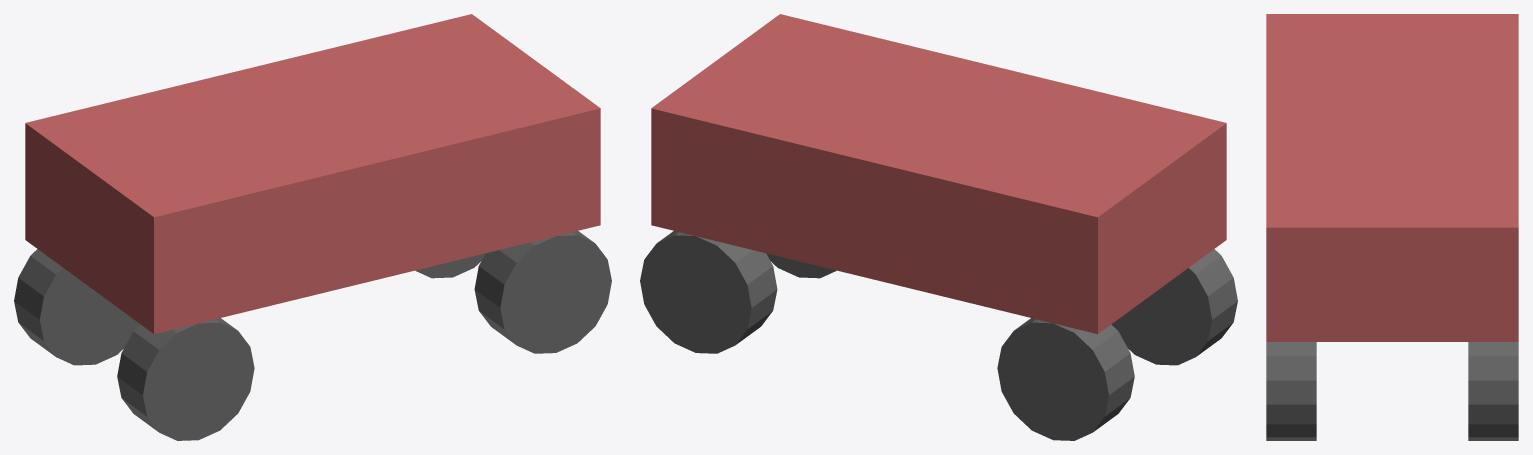
File: car_red.glb
3 views of the same model, side by side, from view 1: azimuth 30°, elevation 25°; view 2: azimuth 150°, elevation 25°; view 3: azimuth 270°, elevation 25° (orthographic). The views are drawn at different scales.
Visible parts, largest first — view 1: world; view 2: world; view 3: world.
Part boxes in pixels (x1,y1,x2,y2): world: (14,14,611,440); world: (640,14,1237,440); world: (1266,14,1518,440).
Bounding box in the file's own units: 2.1 × 1 × 1.
